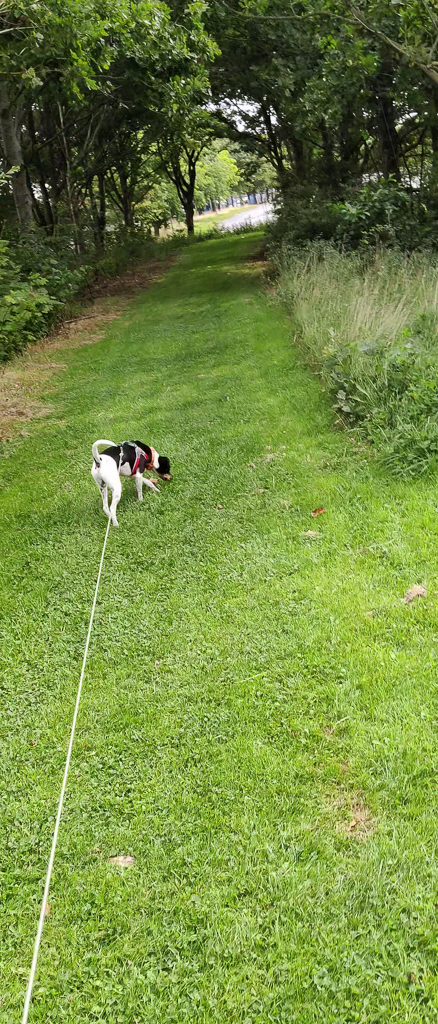Dog: (81, 429, 178, 532)
